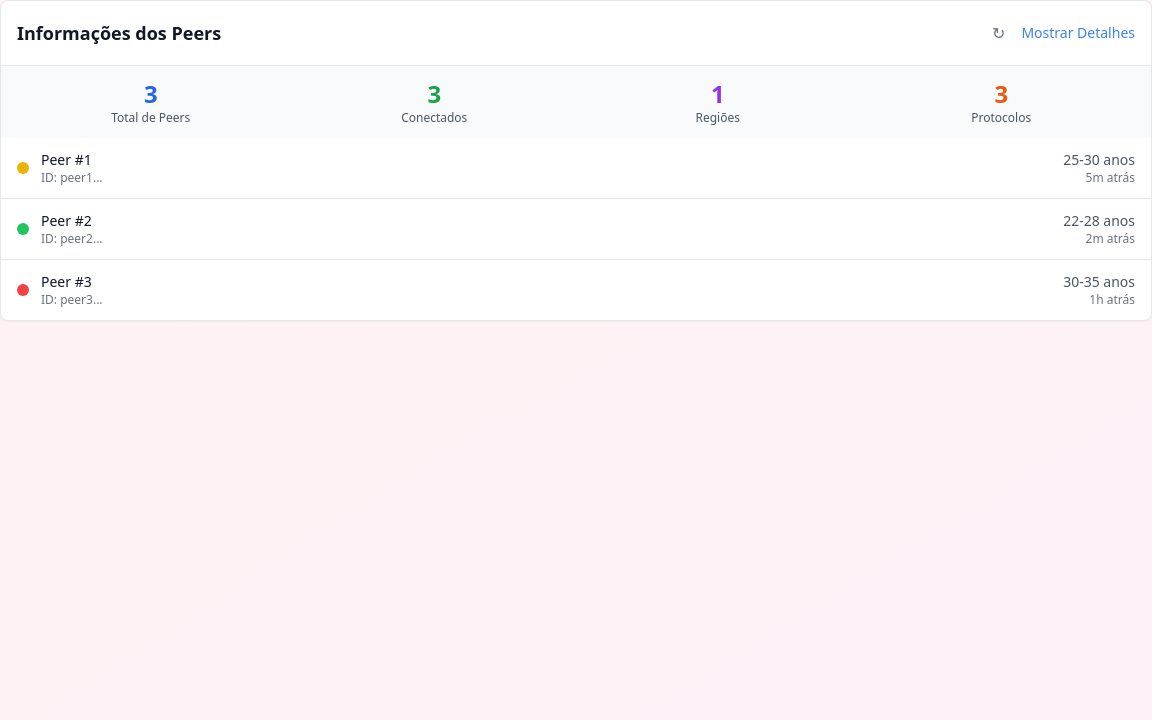
Test: PeerInfoDisplay › expands peer details when clicked
// First show details
Click the button "Mostrar Detalhes" at (1078, 33), box [1021, 23, 1135, 43]
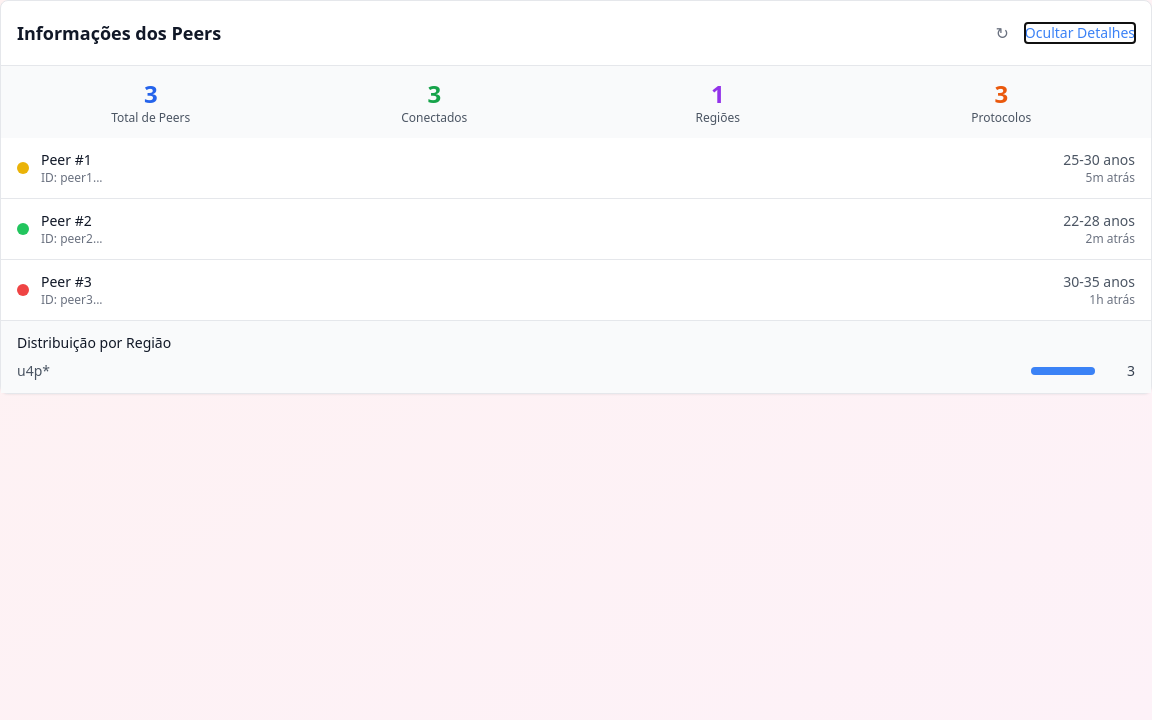
// Then click on a peer
Click the text "Peer #1" at (66, 160), box [41, 150, 92, 169]
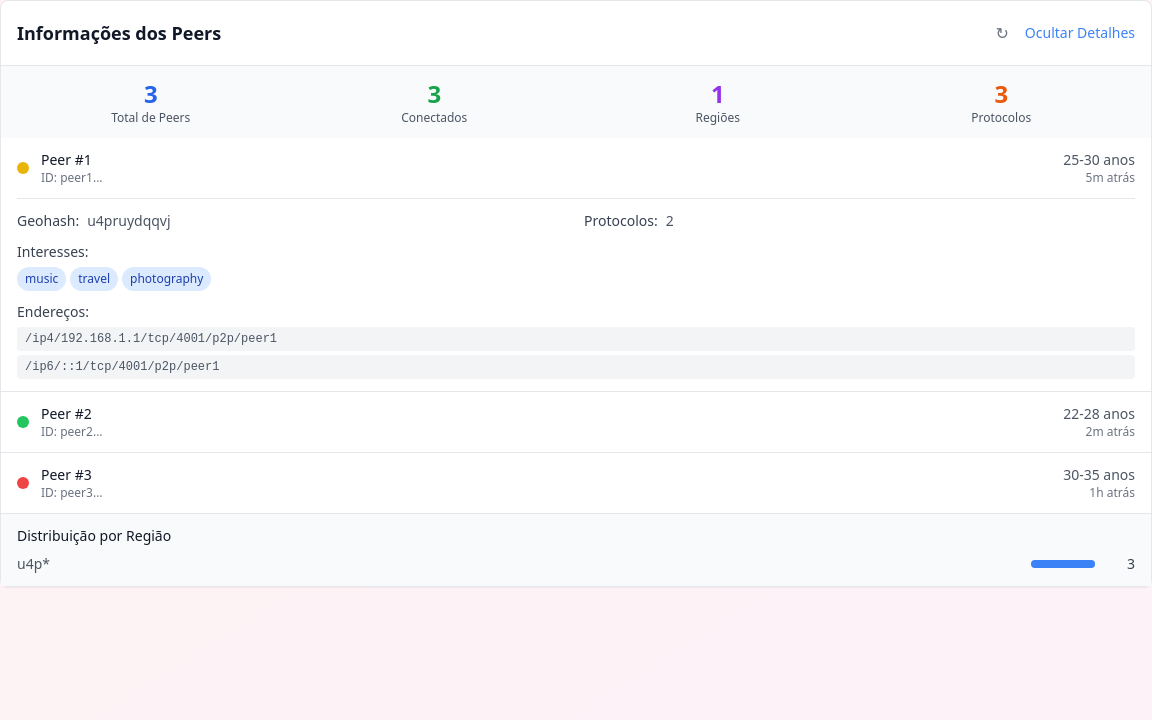
Result: the text "Geohash:" is shown at [17, 211, 79, 230]
Result: the text "u4pruydqqvj" is shown at [87, 211, 171, 230]
Result: the text "Protocolos:" is shown at [584, 211, 658, 230]
